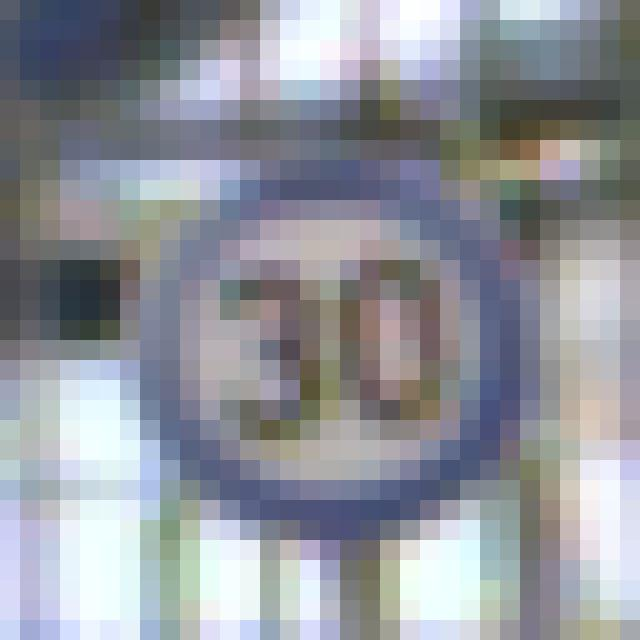SPEED LIMIT 30: (140, 173, 522, 527)
